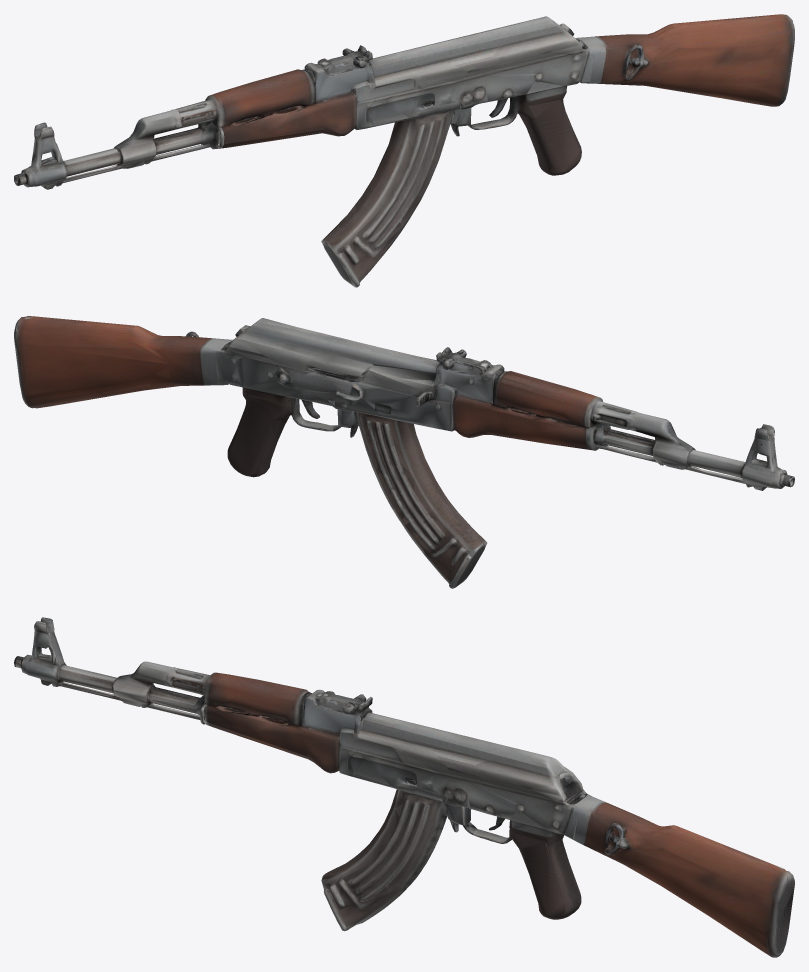
3 views of the same model, one above another, from view 1: azimuth 30°, elevation 25°; view 2: azimuth 150°, elevation 25°; view 3: azimuth 330°, elevation 25° (orthographic).
Visible parts, largest first — view 1: output_unwrapped; view 2: output_unwrapped; view 3: output_unwrapped.
Boxes of the visible parts, box(x1,y1,x2,y2) form: output_unwrapped: box(14, 14, 794, 287); output_unwrapped: box(14, 316, 794, 588); output_unwrapped: box(14, 617, 794, 957).
Size of the model in its own units: 0.9282 by 0.267 by 0.0711.
Materials: 1 (1 with a texture image).
